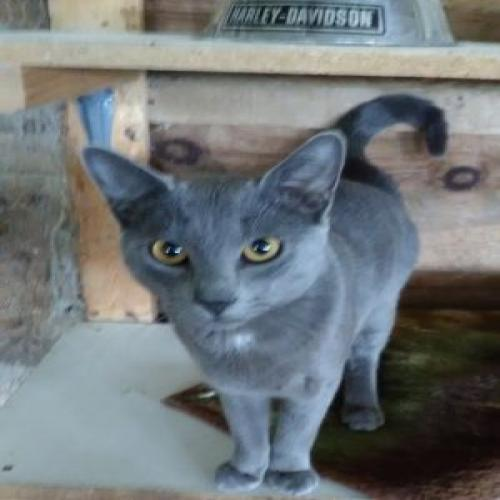rblue: (65, 124, 377, 345)
